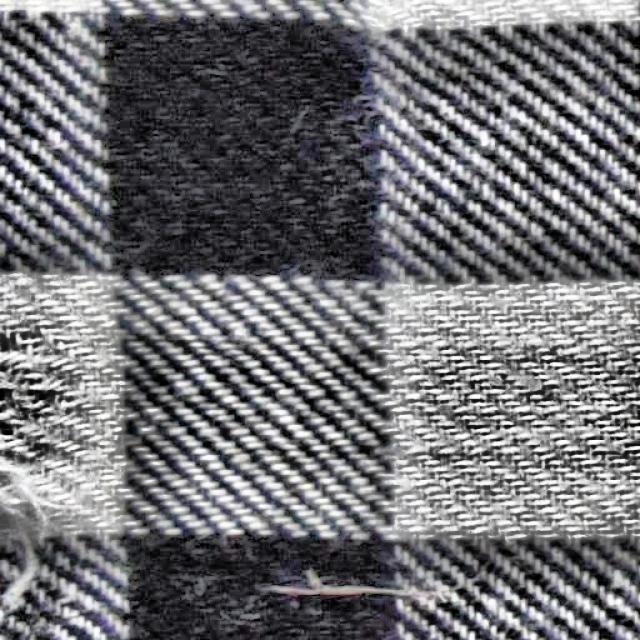Stitch: (1, 486, 89, 636), (263, 555, 516, 607)
